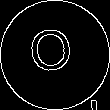O_S: (31, 27, 79, 83)
